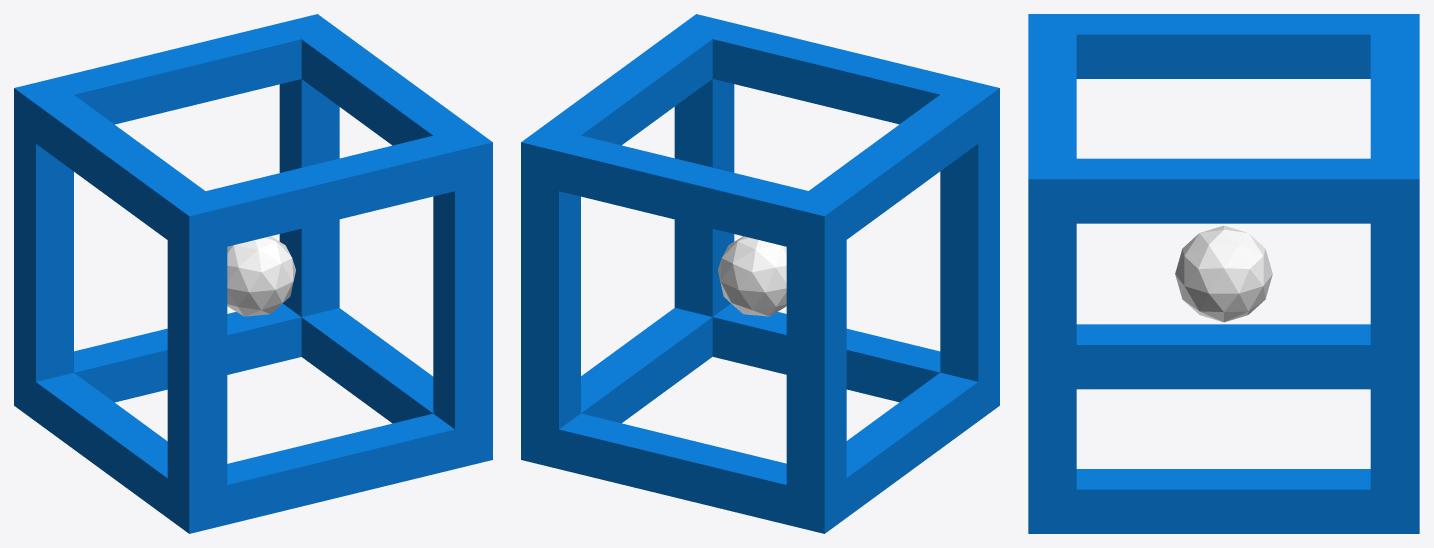
File: checkpoint.glb
3 views of the same model, side by side, from view 1: azimuth 30°, elevation 25°; view 2: azimuth 150°, elevation 25°; view 3: azimuth 270°, elevation 25° (orthographic). The views are drawn at different scales.
Parts seen in each view (by area): view 1: checkpoint; view 2: checkpoint; view 3: checkpoint.
Part boxes in pixels (<box>): checkpoint: <box>14,14,492,533</box>; checkpoint: <box>521,14,999,533</box>; checkpoint: <box>1028,14,1419,533</box>.
Size of the model in its own units: 1 by 1 by 1.
Materials: 1 (1 with a texture image).
